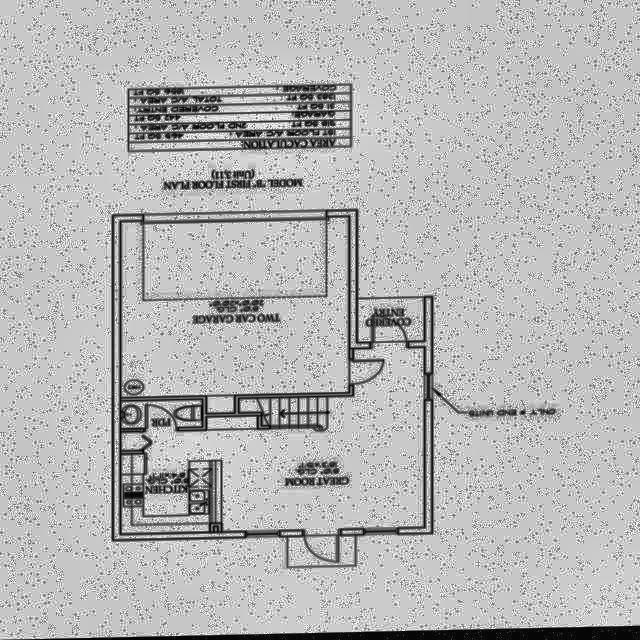room: (122, 344, 425, 538), (118, 219, 352, 398), (357, 299, 424, 344), (121, 401, 202, 429)
